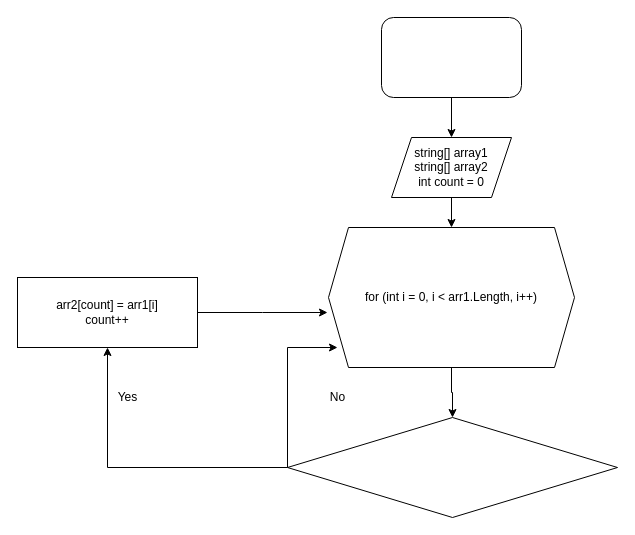
Some shapes in this 635 by 535 pixel diagram are drawn without their labels. Here are the shapes that lost their labels. From the top down, the centre of each, then its label:
the point at 451,57: FindElemetsToArray
the point at 452,467: if (arr1[i].Length <= 3)
